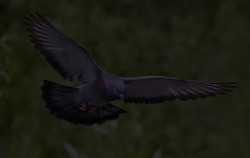pigeon: (22, 10, 239, 127)
